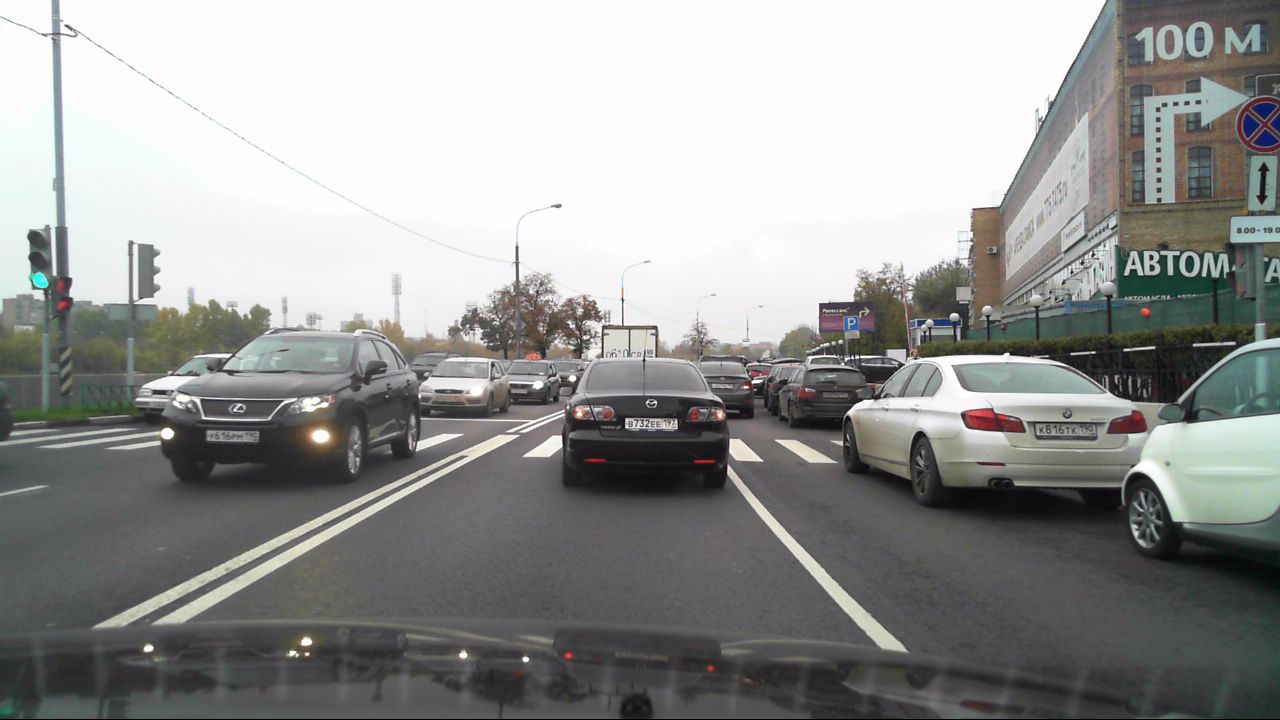No Parking: (1239, 95, 1279, 154)
